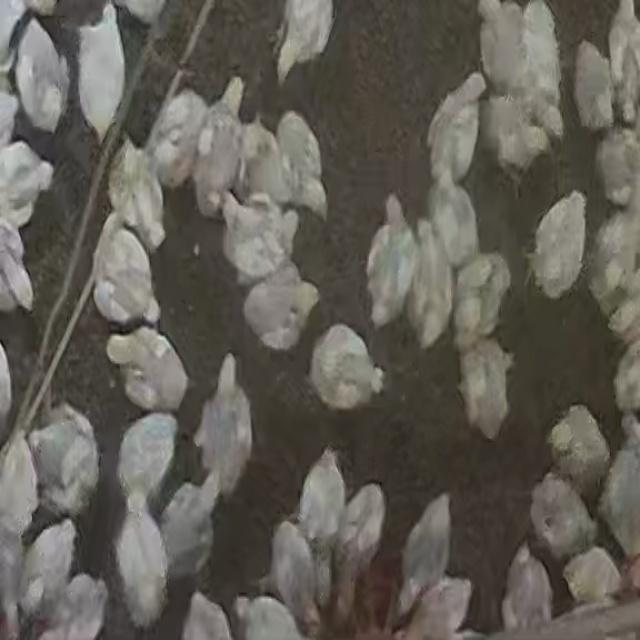chicken: (478, 0, 562, 112), (192, 353, 253, 498), (189, 85, 252, 222), (89, 215, 162, 333), (27, 404, 101, 520), (110, 494, 172, 630), (106, 324, 189, 418), (217, 189, 295, 289), (396, 490, 454, 624), (19, 516, 82, 635), (105, 138, 168, 256), (160, 466, 222, 583), (146, 87, 215, 192), (240, 265, 320, 355), (526, 186, 588, 302), (425, 72, 486, 188), (13, 14, 68, 141), (310, 324, 391, 410), (115, 410, 181, 515), (403, 216, 453, 348), (585, 204, 640, 324), (369, 188, 418, 322), (80, 4, 130, 132), (273, 108, 329, 221), (483, 91, 550, 182), (457, 340, 515, 444), (451, 251, 512, 349), (526, 474, 593, 562), (544, 402, 608, 492), (295, 446, 347, 552), (276, 2, 336, 86), (499, 542, 554, 630), (428, 174, 478, 268), (0, 426, 41, 539), (268, 526, 321, 613), (605, 0, 640, 119), (340, 483, 382, 580), (594, 125, 639, 209), (561, 544, 621, 606)
